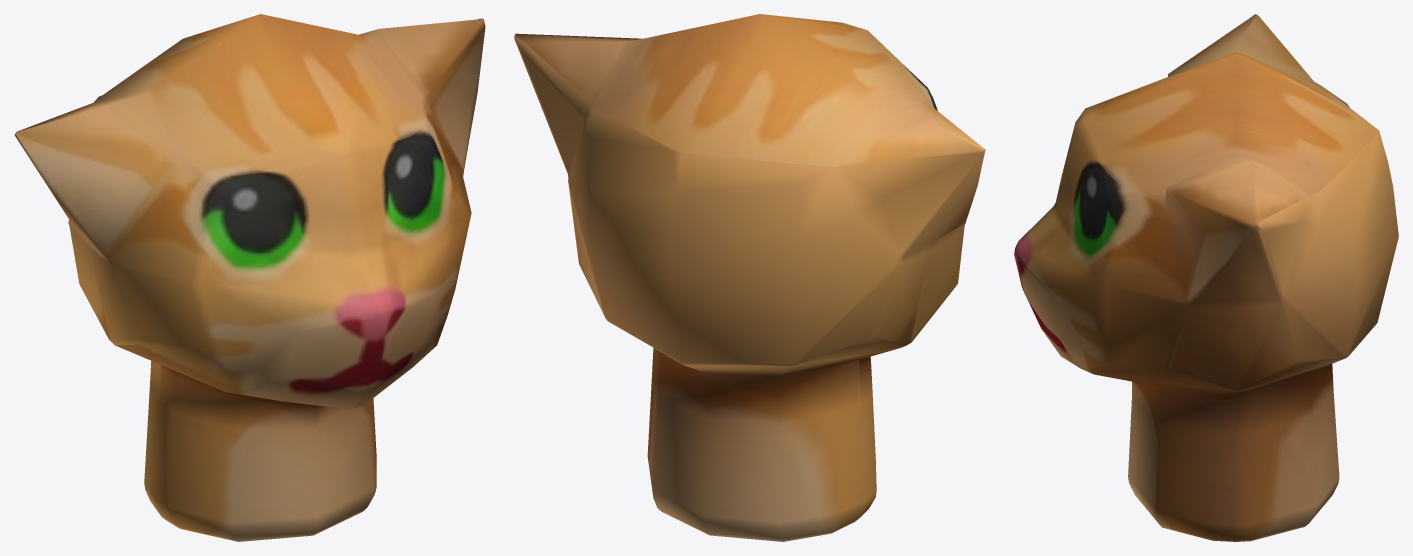
The picture shows the model from 3 angles, left to right: view 1: azimuth 30°, elevation 25°; view 2: azimuth 150°, elevation 25°; view 3: azimuth 270°, elevation 25°; orthographic projection. The views are drawn at different scales.
Visible parts, largest first — view 1: 2; view 2: 2; view 3: 2.
Boxes of the visible parts, x1,y1,x2,y2 form: 2: [14, 14, 485, 541]; 2: [514, 14, 985, 541]; 2: [1014, 14, 1398, 541].
Bounding box in the file's own units: 99.8 × 99.02 × 77.15.
